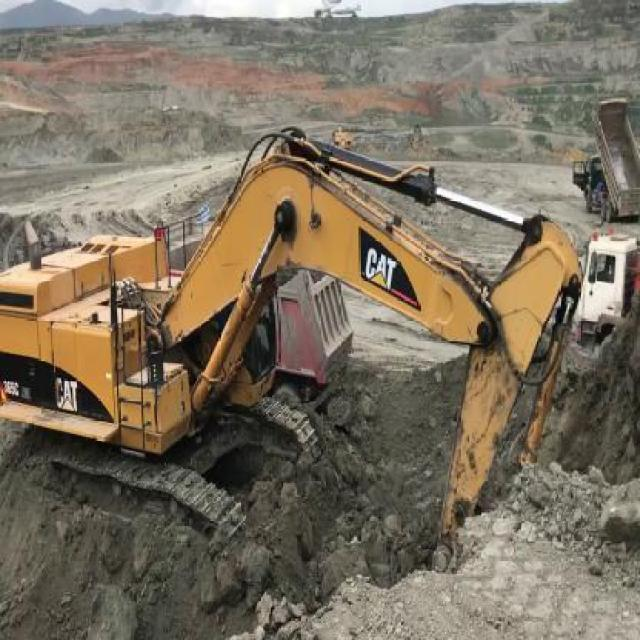dump_truck: (573, 97, 639, 225), (575, 236, 639, 352)
excavator: (0, 115, 582, 574)
